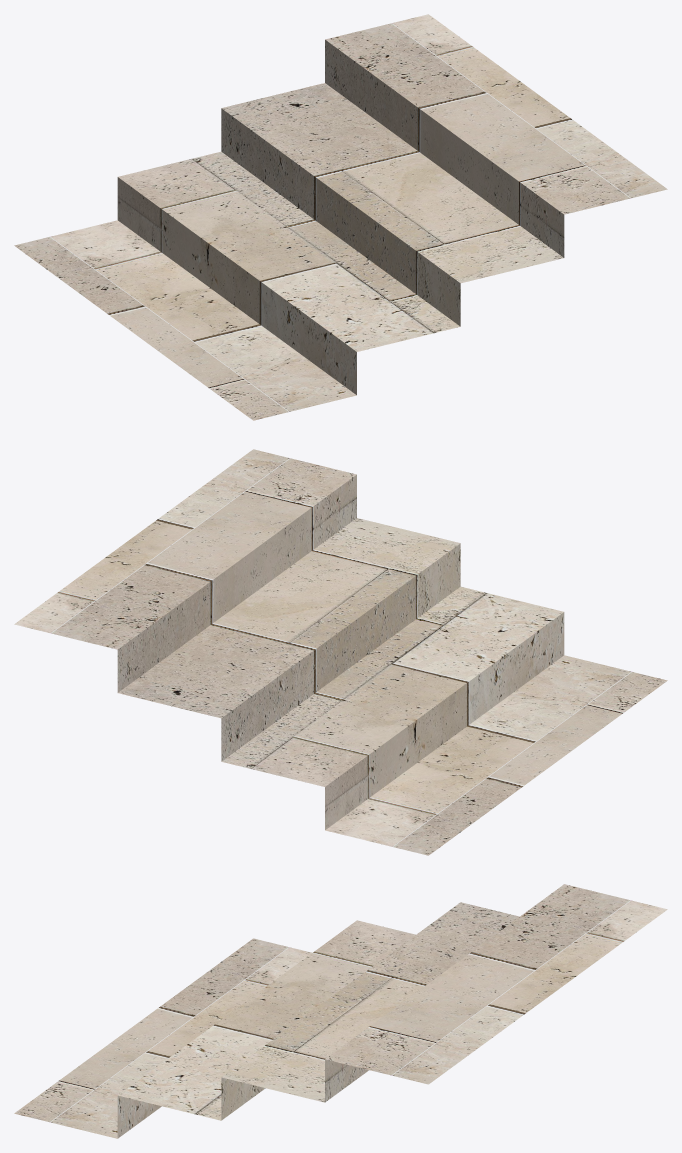
The model's file is Escalier.fbx.
The picture shows the model from 3 angles, top to bottom: view 1: azimuth 30°, elevation 25°; view 2: azimuth 150°, elevation 25°; view 3: azimuth 330°, elevation 25°; orthographic projection.
Parts seen in each view (by area): view 1: Plane001; view 2: Plane001; view 3: Plane001.
Boxes of the visible parts, box(x1,y1,x2,y2) form: Plane001: box(14, 14, 667, 420); Plane001: box(14, 449, 667, 855); Plane001: box(14, 884, 667, 1138).
Bounding box in the file's own units: 100 × 30 × 100.
